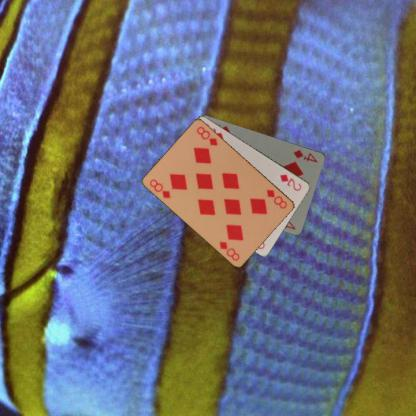2d: (277, 172, 303, 192)
4d: (291, 146, 319, 164)
8d: (147, 176, 172, 200), (264, 186, 289, 209)
